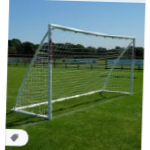goals: (13, 23, 137, 122)
